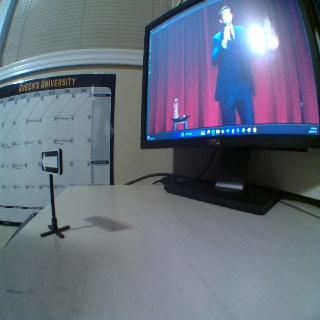sign_oneway_left: (39, 149, 61, 174)
